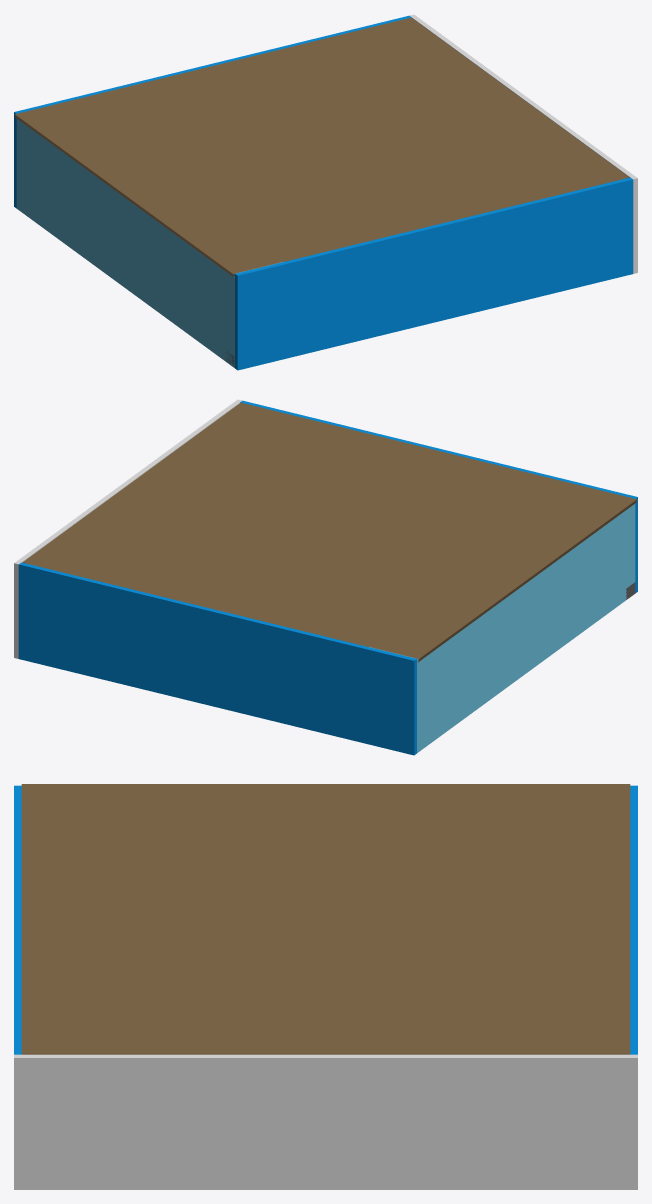
The model's file is bowlingPinsPlusAlley4.fbx.
3 views of the same model, one above another, from view 1: azimuth 30°, elevation 25°; view 2: azimuth 150°, elevation 25°; view 3: azimuth 270°, elevation 25° (orthographic). The views are drawn at different scales.
Visible parts, largest first — view 1: Cube.009, Cube.007, Cube.008; view 2: Cube.009, Cube.007, Cube.008; view 3: Cube.009, Cube.008, Cube.007.
Part boxes in pixels (bbox=[...]): Cube.009: bbox=[15, 17, 628, 277]; Cube.007: bbox=[14, 15, 633, 370]; Cube.008: bbox=[409, 14, 637, 273]; Cube.009: bbox=[23, 402, 636, 662]; Cube.007: bbox=[18, 400, 637, 755]; Cube.008: bbox=[14, 399, 242, 658]; Cube.009: bbox=[21, 784, 630, 1054]; Cube.008: bbox=[14, 1054, 637, 1189]; Cube.007: bbox=[14, 785, 637, 1054].
Size of the model in its own units: 16972 by 3828 by 16364.
